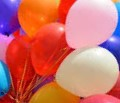Balloon: (56, 47, 120, 95), (65, 1, 118, 47), (31, 23, 64, 73), (17, 1, 57, 34), (8, 36, 33, 79), (1, 1, 23, 36)
